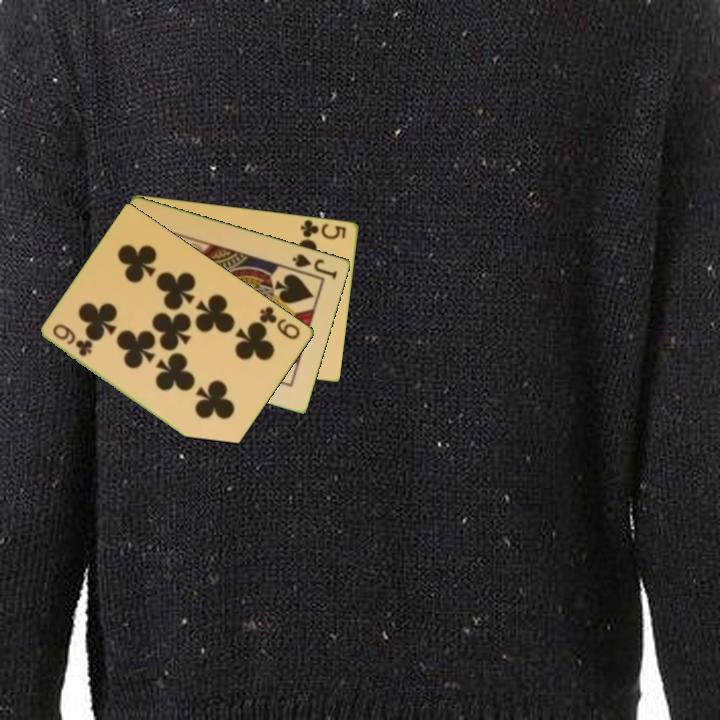5c: (297, 216, 349, 242)
9c: (256, 302, 304, 342), (49, 320, 96, 360)
Js: (289, 250, 340, 282)
